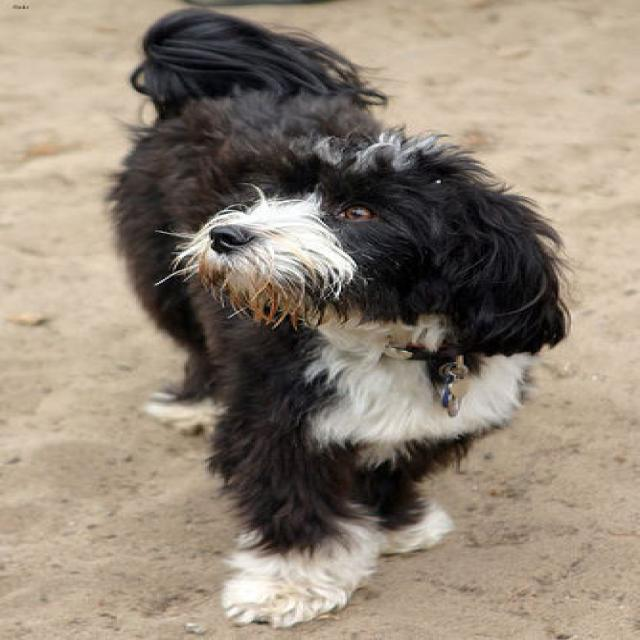dog-havanese: (92, 3, 586, 634)
